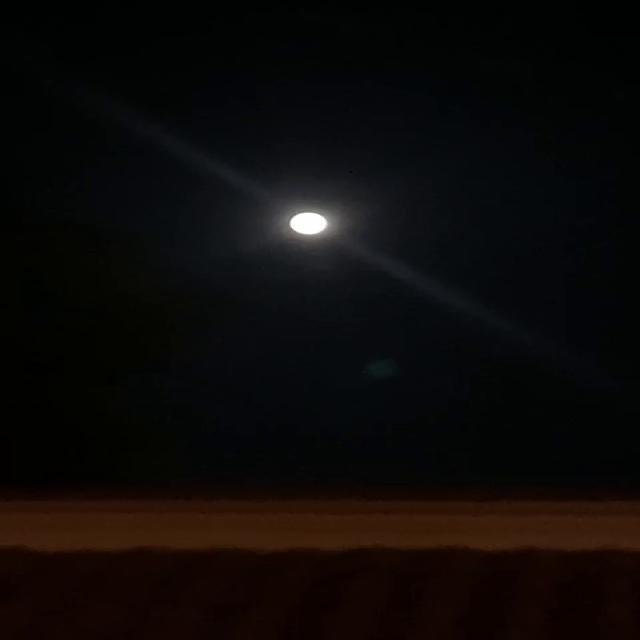moon: (285, 207, 335, 240)
